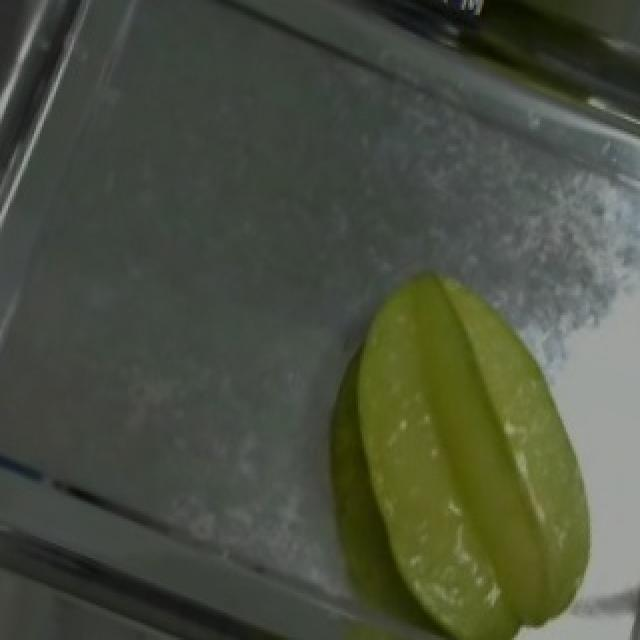fruit: (294, 233, 640, 640)
